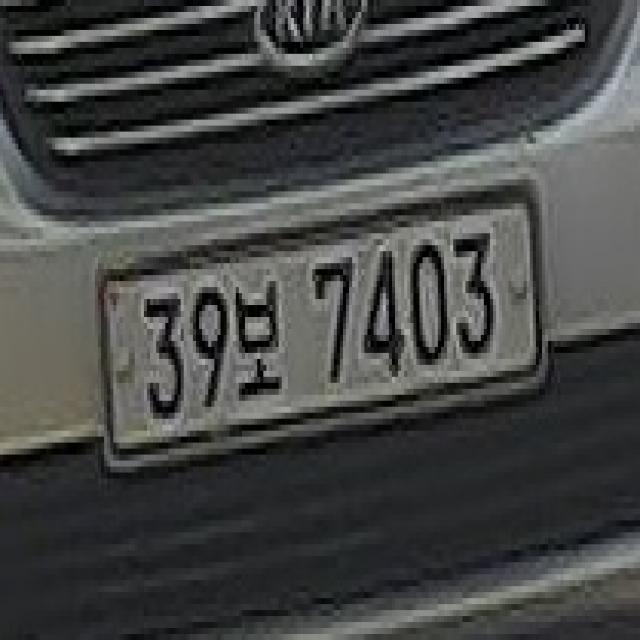0: (407, 233, 450, 365)
3: (141, 287, 187, 425), (450, 227, 496, 365)
4: (362, 251, 404, 371)
7: (309, 251, 355, 383)
9: (190, 281, 230, 413)
bo: (227, 275, 284, 401)
license_plate: (98, 192, 545, 466)
